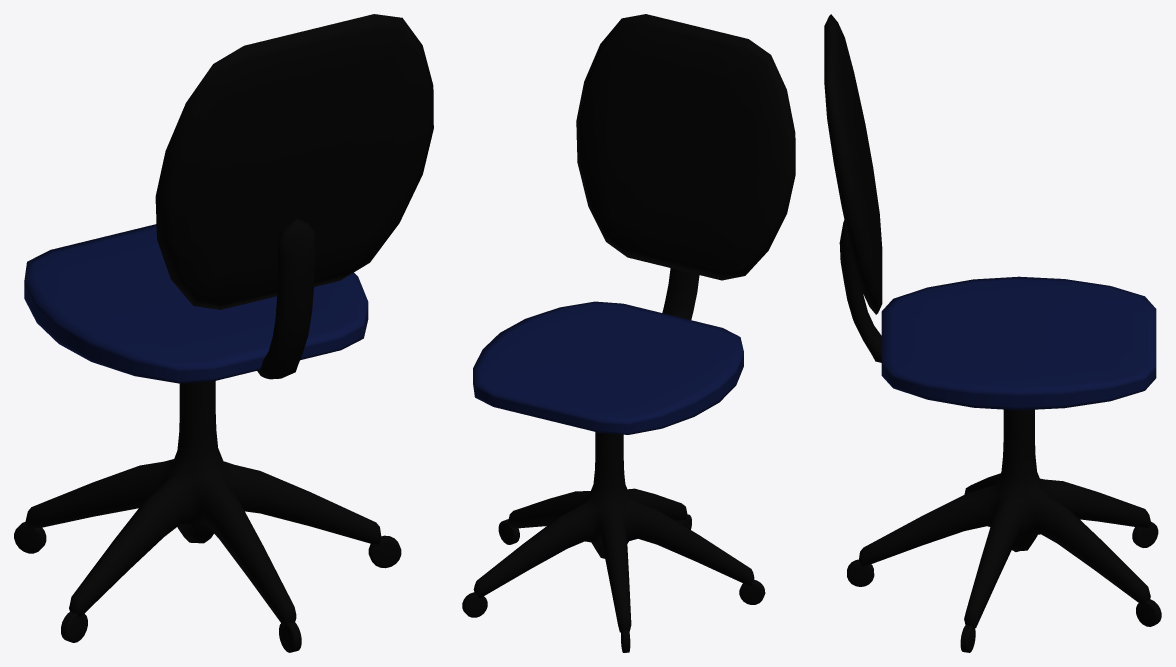
The model's file is Chair.fbx.
3 renders of one model, left to right at view 1: azimuth 30°, elevation 25°; view 2: azimuth 150°, elevation 25°; view 3: azimuth 270°, elevation 25°, orthographic. The views are drawn at different scales.
Parts seen in each view (by area): view 1: Box001; view 2: Box001; view 3: Box001.
Part boxes in pixels (x1,y1,x2,y2): Box001: (14, 14, 433, 652); Box001: (462, 14, 795, 652); Box001: (824, 14, 1161, 652).
Bounding box in the file's own units: 54.61 × 98.06 × 55.24.
